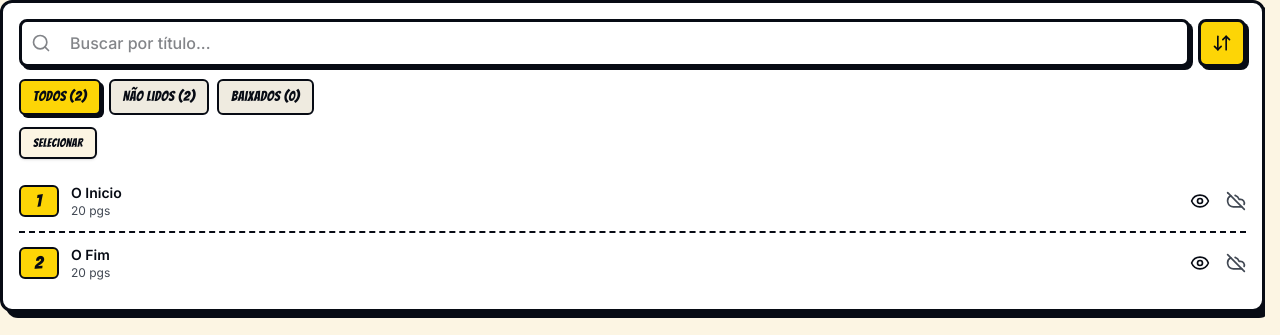
Test: TabCapitulos › deve filtrar capitulos por titulo
Type "Inicio" into the field with placeholder "Buscar por título..." at (604, 43), box [19,19,1190,67]
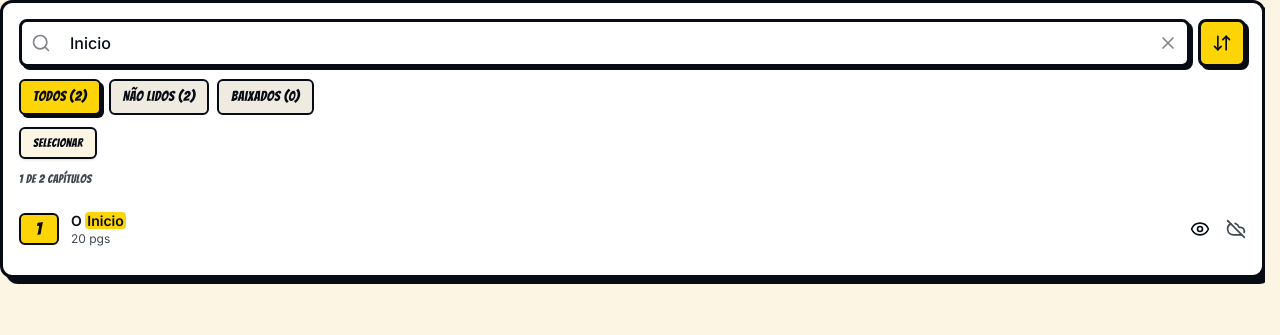
Check: the text "Inicio" is shown, box [85,212,126,229]
Check: the button "O Fim" is gone
